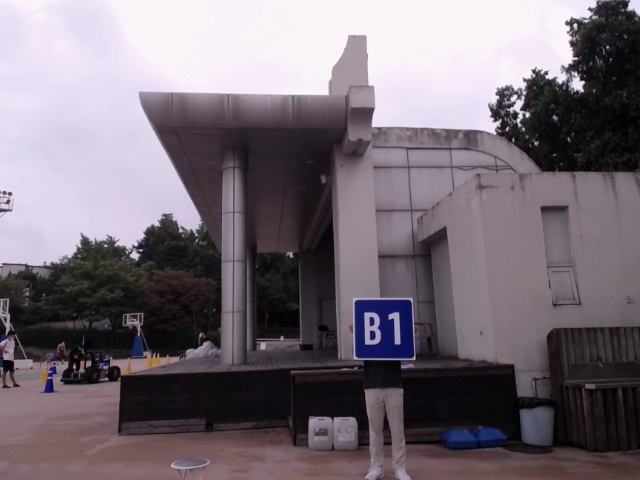delivery_b1: (353, 298, 415, 360)
